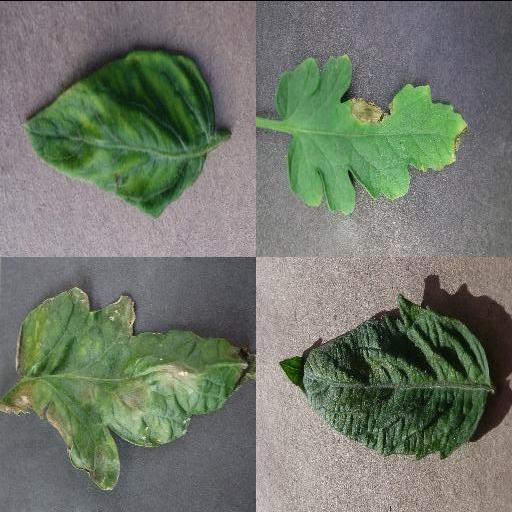Late Blight: (0, 284, 256, 490), (275, 51, 471, 217)
Spider Mites: (275, 292, 491, 462)
Yellow Leaf Curl Virus: (23, 49, 211, 221)
